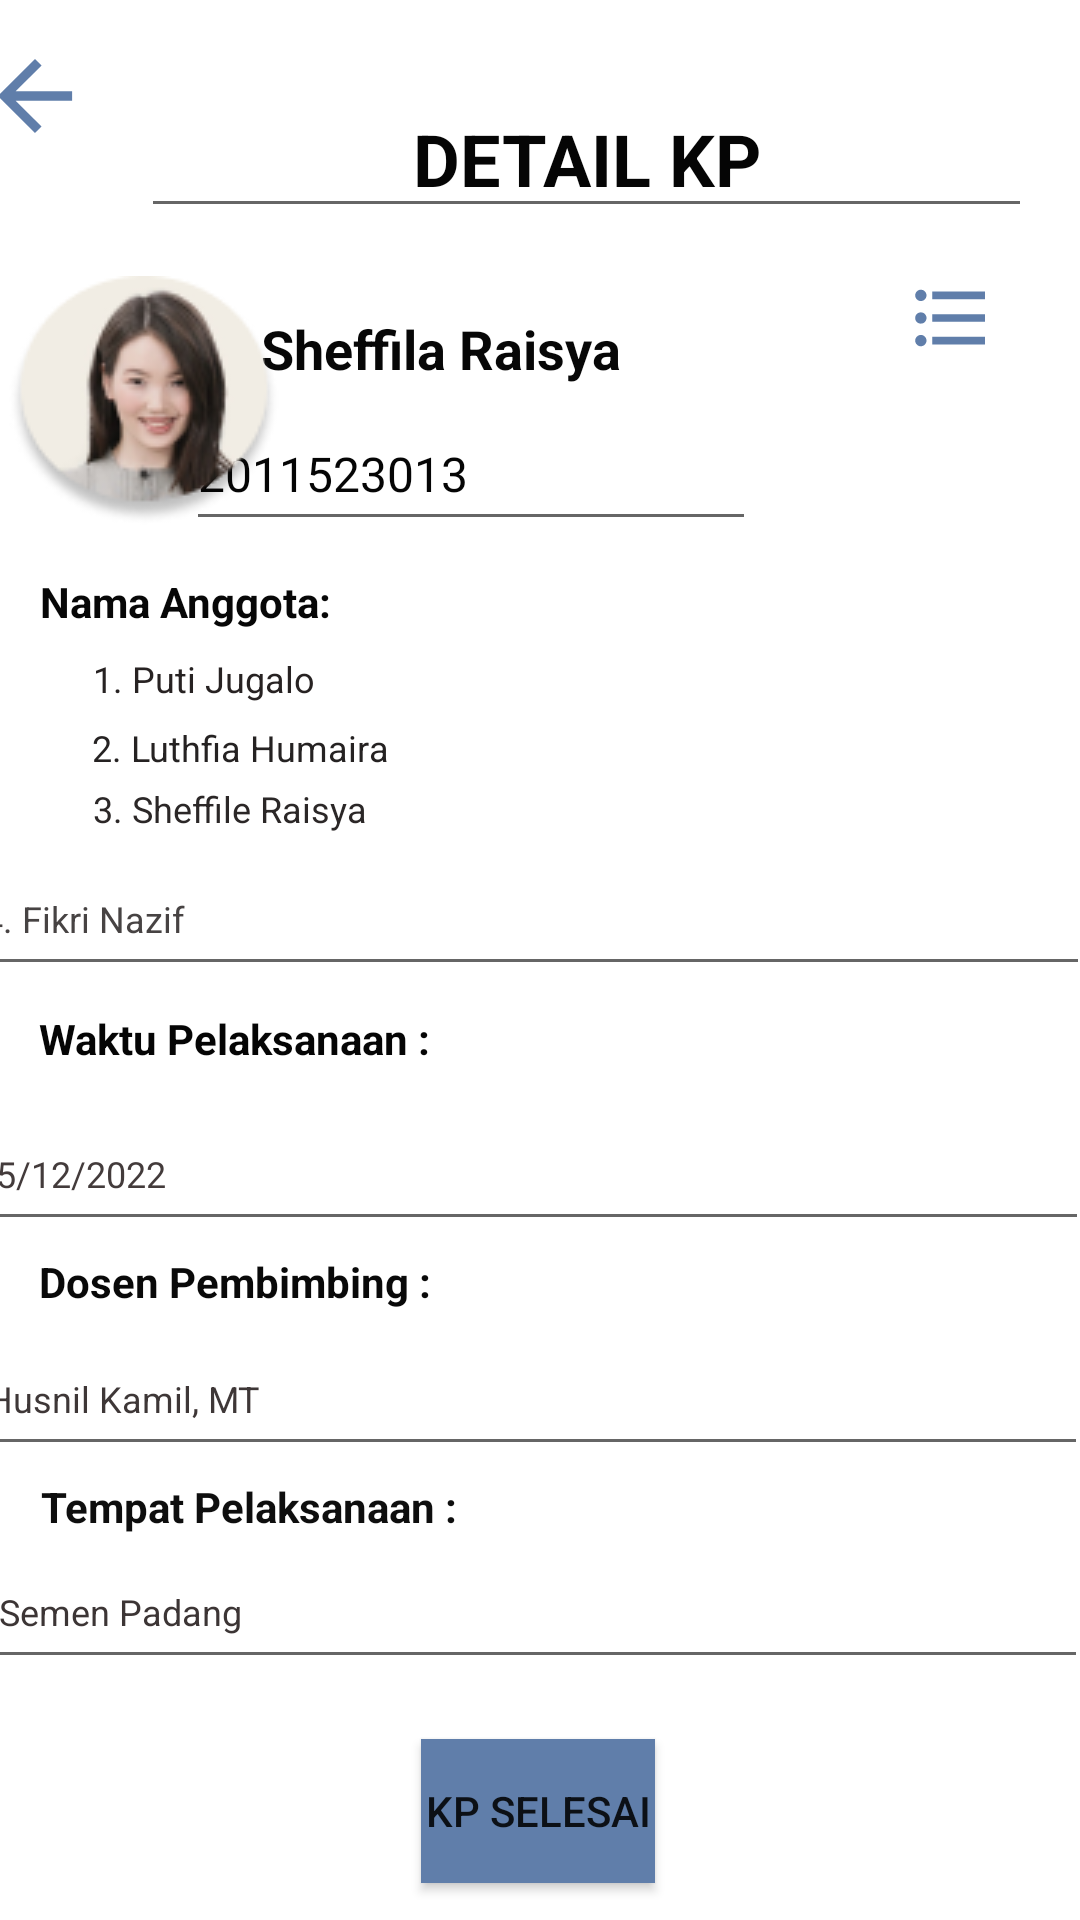

Where to tap for icons on this 1080px x 1920px app screen, as point (x, y):
foto: point (149, 396)
list: point (950, 318)
